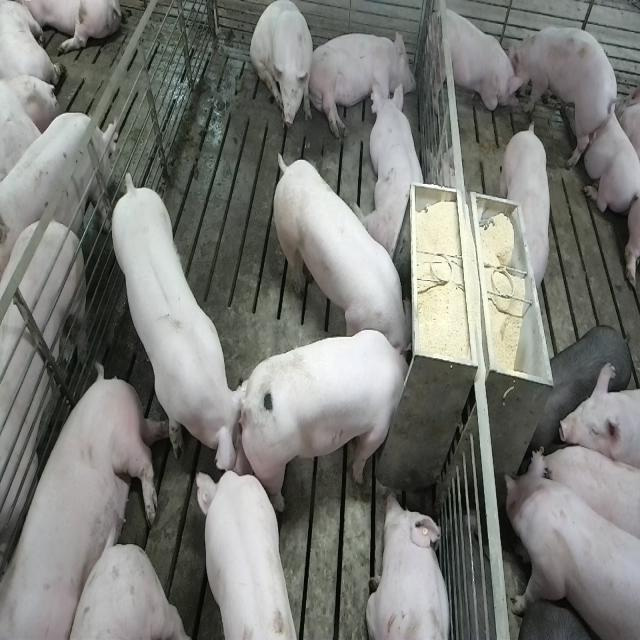Feeding: (247, 329, 419, 514), (268, 144, 411, 358)
Lateral_lying: (307, 28, 417, 140)
Sitting: (422, 0, 520, 123), (250, 2, 314, 136)
Standing: (110, 164, 251, 477), (0, 213, 89, 578), (504, 458, 638, 640), (0, 106, 115, 268), (199, 469, 301, 640), (508, 24, 618, 165), (531, 322, 635, 448), (531, 440, 637, 552), (502, 119, 556, 294), (562, 361, 640, 473)
Sternal_lying: (366, 489, 453, 640), (364, 81, 428, 263), (566, 86, 638, 213)
